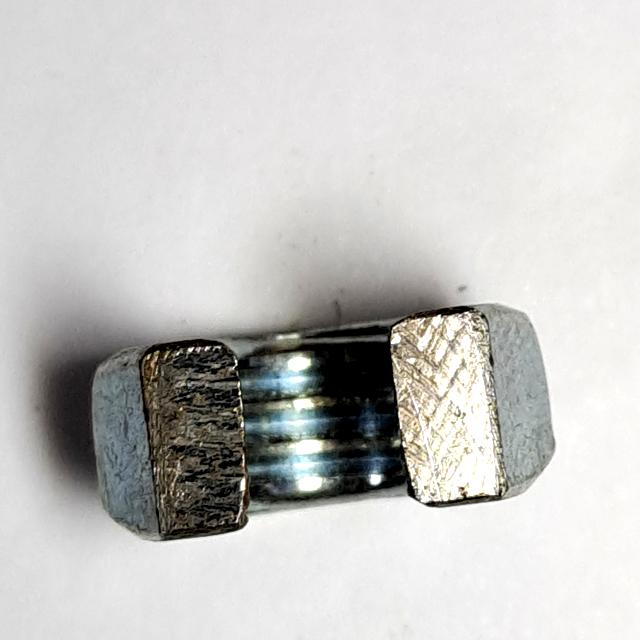Side-Fracture: (79, 282, 566, 554)
